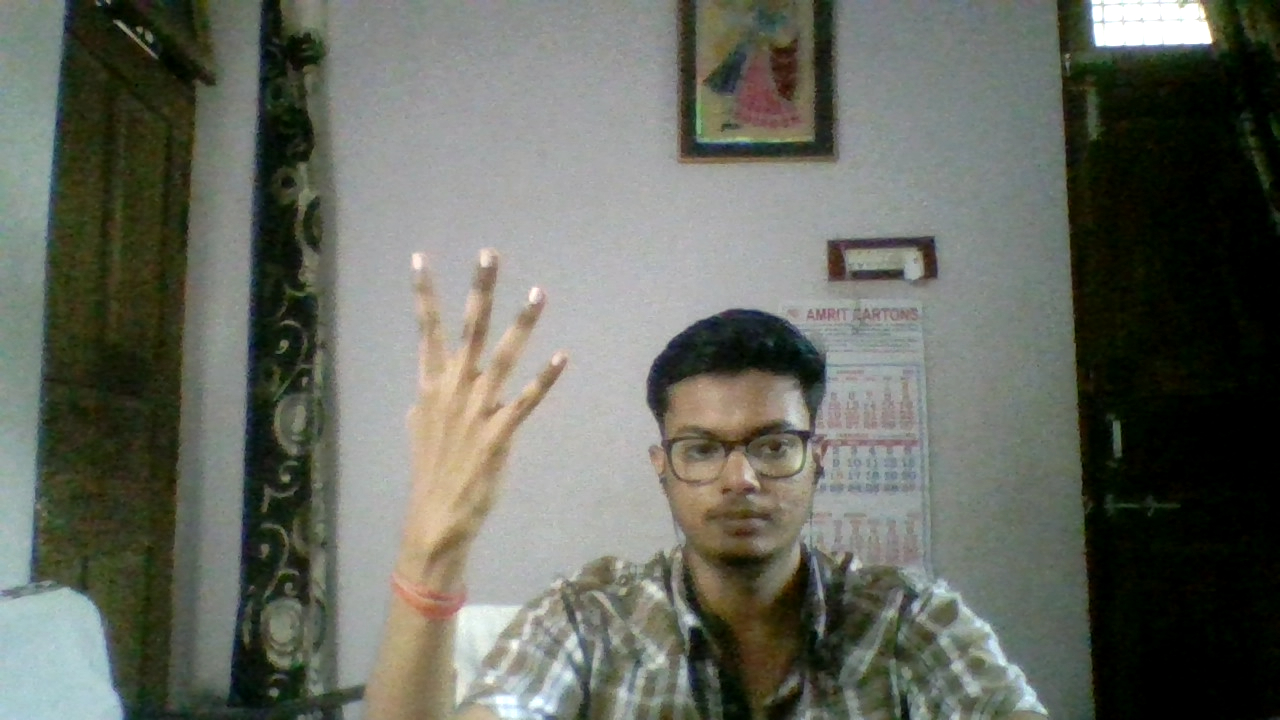four: (369, 224, 585, 598)
